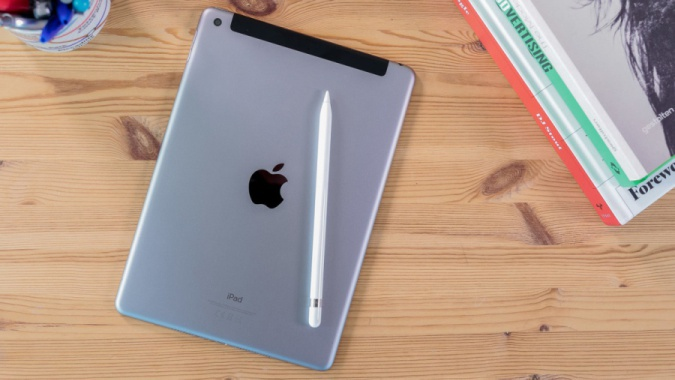apple: (240, 160, 297, 223)
